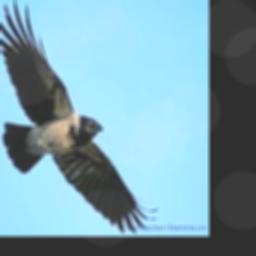Crow: (0, 0, 158, 235)
